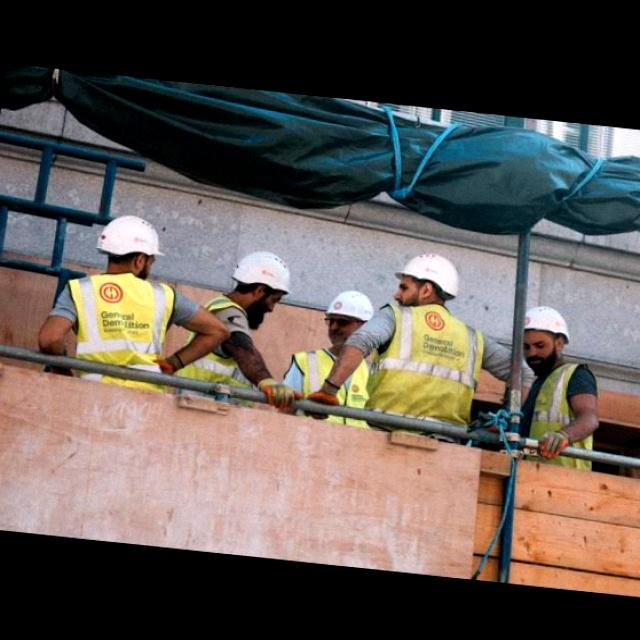helmet: (98, 213, 166, 265), (390, 249, 464, 296), (228, 252, 296, 296), (322, 286, 382, 330), (520, 306, 573, 336)
safety_vest: (70, 268, 182, 400), (374, 302, 486, 434), (166, 293, 256, 393), (512, 363, 594, 471), (289, 350, 389, 430)
